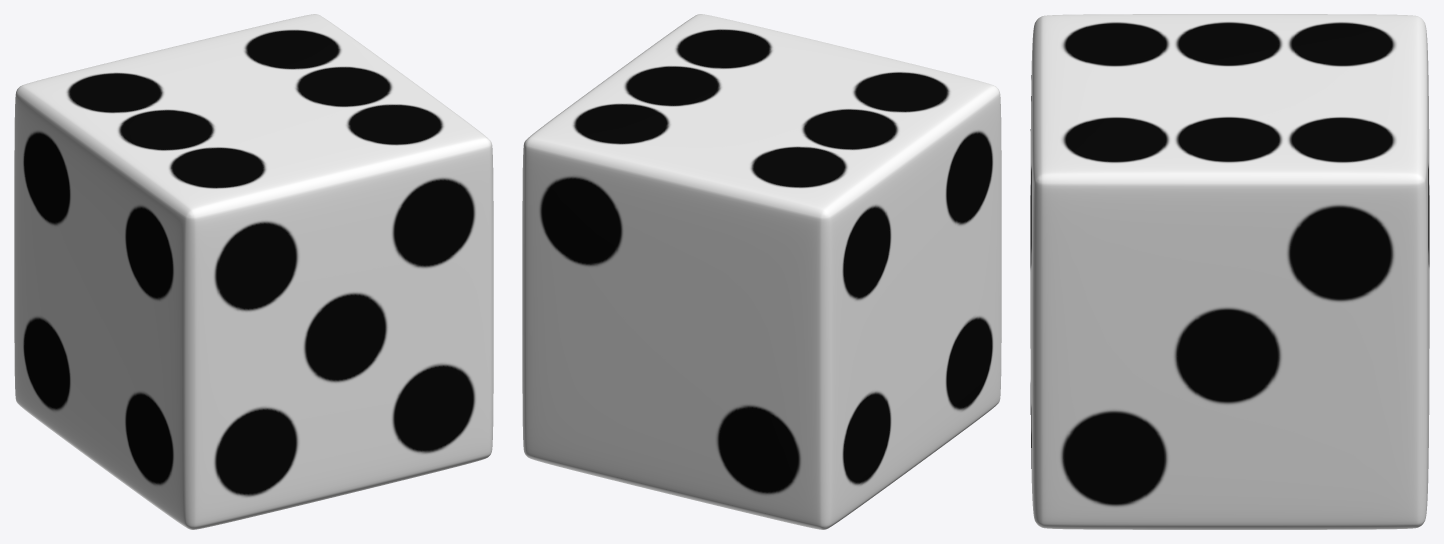
Rendered from Dice Highpoly.fbx.
3 renders of one model, left to right at view 1: azimuth 30°, elevation 25°; view 2: azimuth 150°, elevation 25°; view 3: azimuth 270°, elevation 25°, orthographic. The views are drawn at different scales.
Visible parts, largest first — view 1: Dice; view 2: Dice; view 3: Dice.
Part boxes in pixels (box(x1,y1,x2,y2)): Dice: box(14, 14, 493, 529); Dice: box(522, 14, 1001, 529); Dice: box(1030, 14, 1429, 529).
Bounding box in the file's own units: 4.99 × 4.99 × 4.99.
